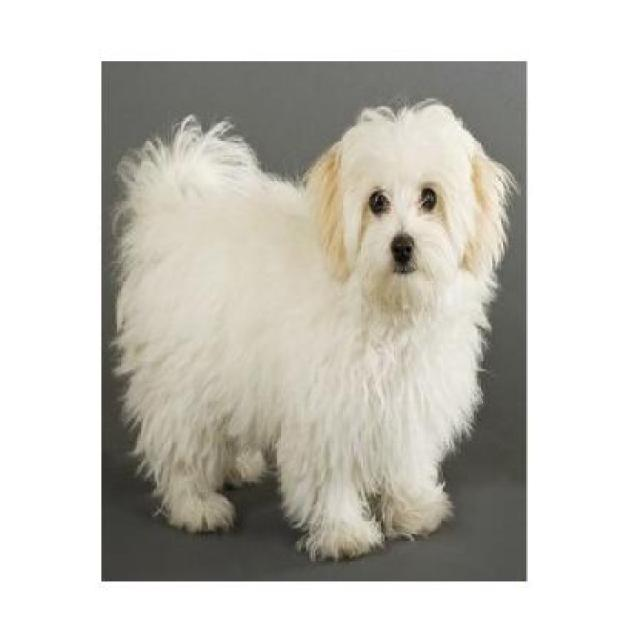Dog: (114, 93, 520, 564)
